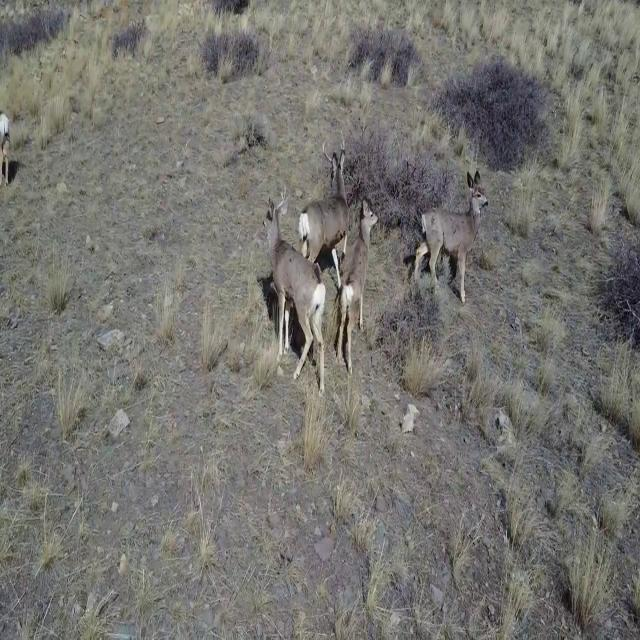Deer: (261, 185, 325, 392), (410, 170, 490, 306), (336, 194, 384, 374), (294, 132, 352, 264)
